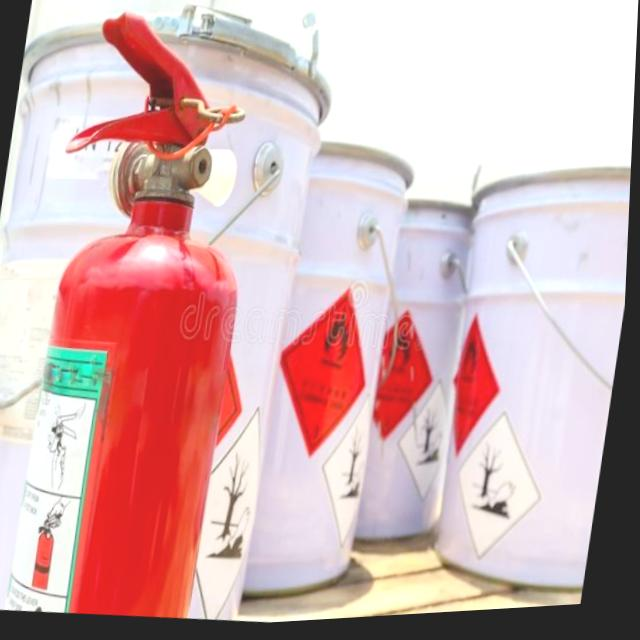FireExtinguisher: (0, 0, 291, 630)
